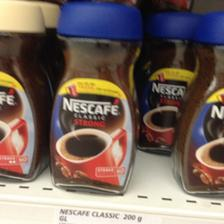Kaffee: (45, 4, 138, 192), (173, 14, 223, 194), (0, 0, 48, 182)
